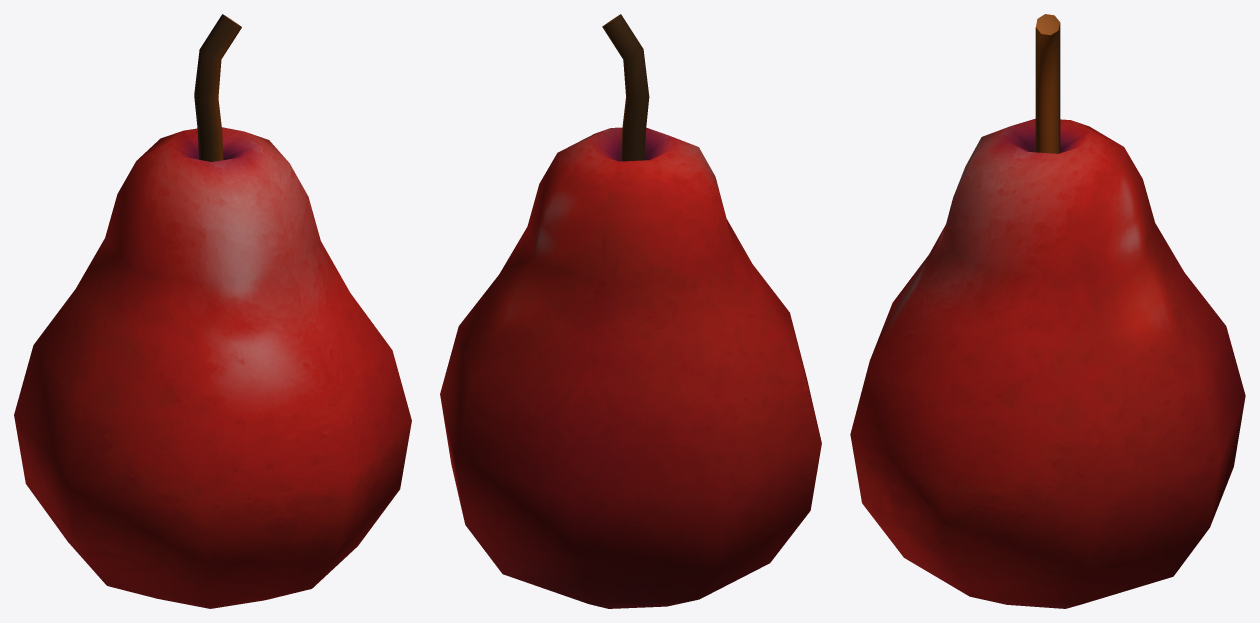
Rendered from Pear_02.fbx.
The picture shows the model from 3 angles, left to right: view 1: azimuth 30°, elevation 25°; view 2: azimuth 150°, elevation 25°; view 3: azimuth 270°, elevation 25°; orthographic projection.
Parts seen in each view (by area): view 1: Pear_02; view 2: Pear_02; view 3: Pear_02.
Boxes of the visible parts, x1=… form: Pear_02: x1=14, y1=14, x2=411, y2=608; Pear_02: x1=440, y1=14, x2=821, y2=608; Pear_02: x1=850, y1=14, x2=1245, y2=608.
Size of the model in its own units: 26.96 by 43.58 by 26.96.
Materials: 1 (1 with a texture image).
